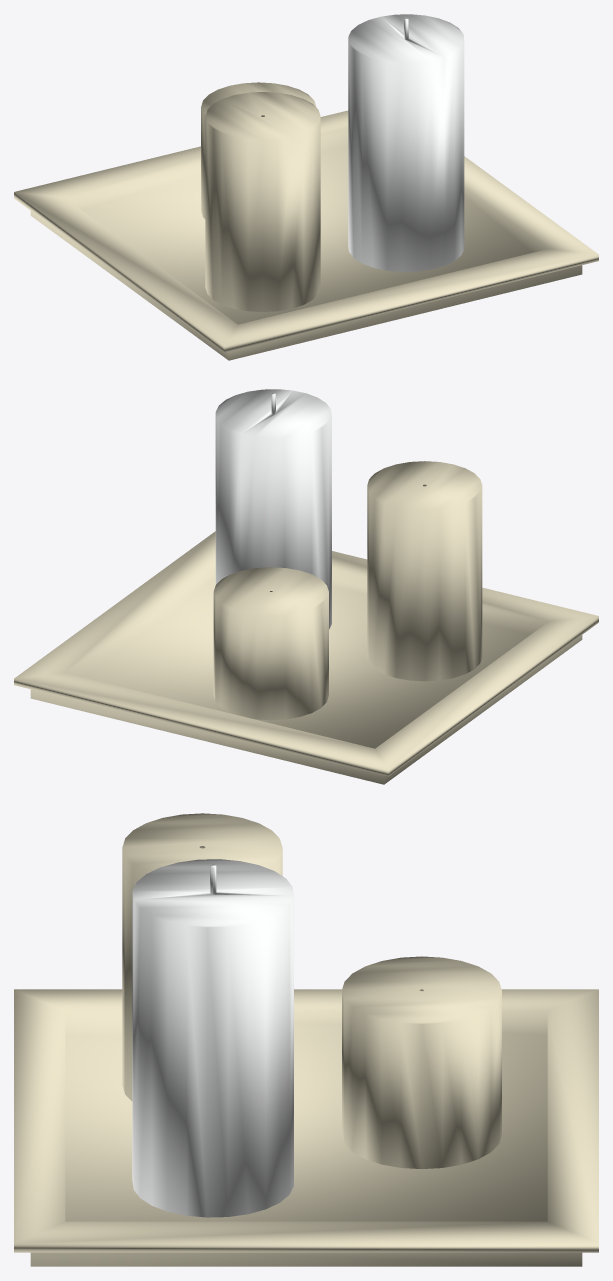
Rendered from cups.glb.
3 views of the same model, one above another, from view 1: azimuth 30°, elevation 25°; view 2: azimuth 150°, elevation 25°; view 3: azimuth 270°, elevation 25° (orthographic). The views are drawn at different scales.
Visible parts, largest first — view 1: Mesh247__f432ed18_2d94_1547_b6ac_1288fc1b07ae__0, Mesh250__72d080a5_31ce_5944_b4d2_53b1b235de32__0, Mesh248__f432ed18_2d94_1547_b6ac_1288fc1b07ae__0, Mesh249__f432ed18_2d94_1547_b6ac_1288fc1b07ae__0; view 2: Mesh247__f432ed18_2d94_1547_b6ac_1288fc1b07ae__0, Mesh248__f432ed18_2d94_1547_b6ac_1288fc1b07ae__0, Mesh250__72d080a5_31ce_5944_b4d2_53b1b235de32__0, Mesh249__f432ed18_2d94_1547_b6ac_1288fc1b07ae__0; view 3: Mesh247__f432ed18_2d94_1547_b6ac_1288fc1b07ae__0, Mesh250__72d080a5_31ce_5944_b4d2_53b1b235de32__0, Mesh249__f432ed18_2d94_1547_b6ac_1288fc1b07ae__0, Mesh248__f432ed18_2d94_1547_b6ac_1288fc1b07ae__0.
Boxes of the visible parts, left/top/right/bottom form: Mesh247__f432ed18_2d94_1547_b6ac_1288fc1b07ae__0: left=14, top=110, right=598, bottom=360; Mesh250__72d080a5_31ce_5944_b4d2_53b1b235de32__0: left=348, top=14, right=464, bottom=271; Mesh248__f432ed18_2d94_1547_b6ac_1288fc1b07ae__0: left=205, top=92, right=320, bottom=311; Mesh249__f432ed18_2d94_1547_b6ac_1288fc1b07ae__0: left=201, top=82, right=316, bottom=219; Mesh247__f432ed18_2d94_1547_b6ac_1288fc1b07ae__0: left=14, top=531, right=598, bottom=784; Mesh248__f432ed18_2d94_1547_b6ac_1288fc1b07ae__0: left=367, top=461, right=482, bottom=681; Mesh250__72d080a5_31ce_5944_b4d2_53b1b235de32__0: left=215, top=389, right=331, bottom=629; Mesh249__f432ed18_2d94_1547_b6ac_1288fc1b07ae__0: left=213, top=567, right=328, bottom=720; Mesh247__f432ed18_2d94_1547_b6ac_1288fc1b07ae__0: left=14, top=989, right=598, bottom=1266; Mesh250__72d080a5_31ce_5944_b4d2_53b1b235de32__0: left=132, top=859, right=293, bottom=1217; Mesh249__f432ed18_2d94_1547_b6ac_1288fc1b07ae__0: left=342, top=956, right=501, bottom=1168; Mesh248__f432ed18_2d94_1547_b6ac_1288fc1b07ae__0: left=122, top=813, right=282, bottom=1101.
Size of the model in its own units: 11.42 by 6.82 by 11.11.
